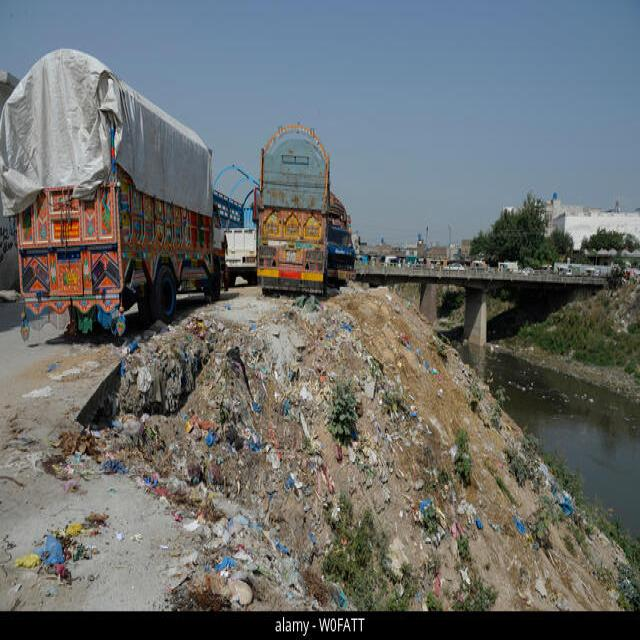trash: (143, 319, 484, 601)
